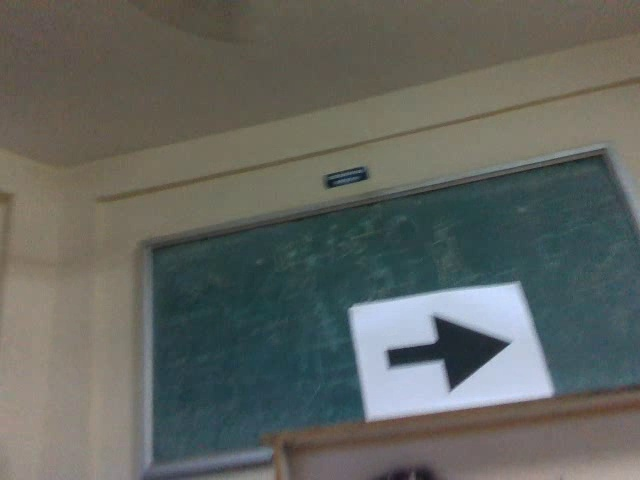Right: (379, 312, 517, 398)
